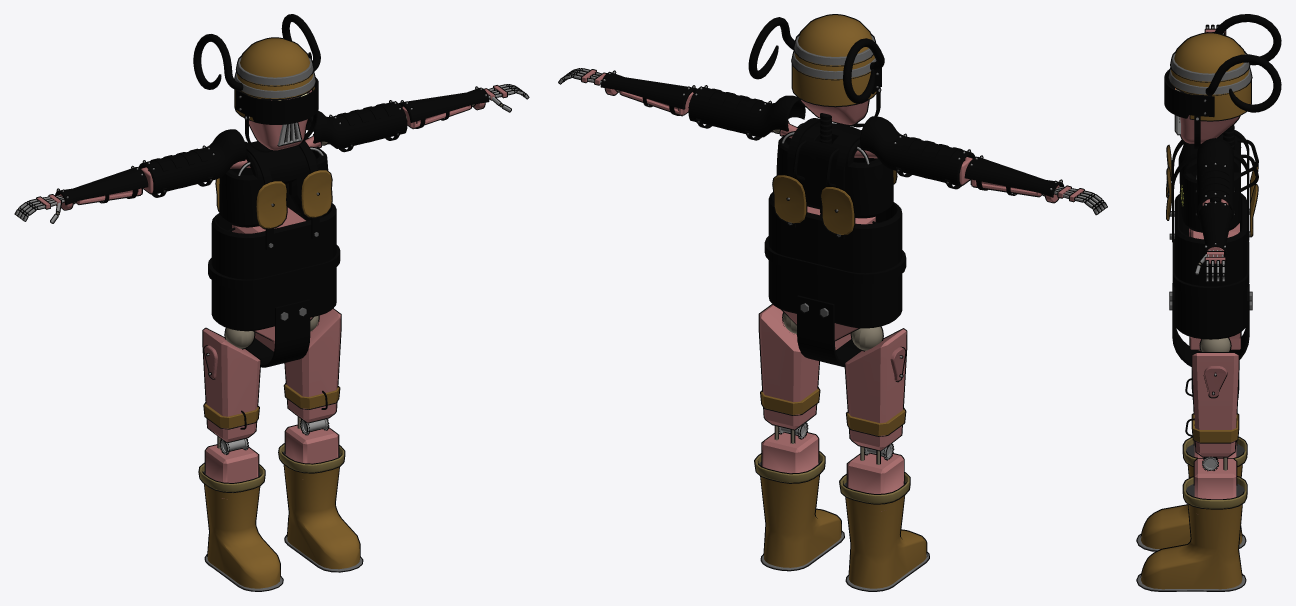
File: Robot5M.fbx
3 views of the same model, side by side, from view 1: azimuth 30°, elevation 25°; view 2: azimuth 150°, elevation 25°; view 3: azimuth 270°, elevation 25° (orthographic). The views are drawn at different scales.
Visible parts, largest first — view 1: Cylinder.001; view 2: Cylinder.001; view 3: Cylinder.001.
Boxes of the visible parts, left/top/right/bottom form: Cylinder.001: left=14, top=14, right=529, bottom=591; Cylinder.001: left=558, top=14, right=1107, bottom=591; Cylinder.001: left=1136, top=14, right=1281, bottom=591.
Bounding box in the file's own units: 428 × 416 × 104.
